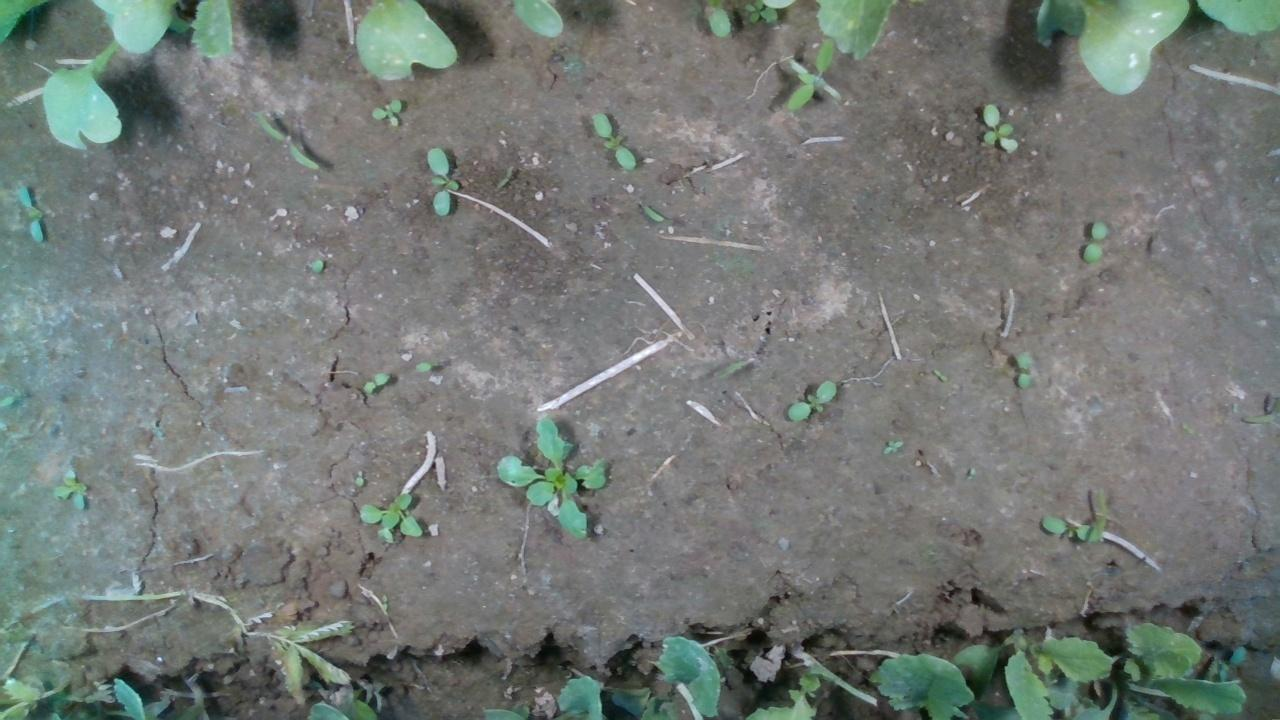weed: (253, 109, 321, 170), (783, 36, 835, 110), (423, 145, 460, 215), (590, 112, 635, 169), (785, 378, 837, 421), (981, 102, 1018, 155), (15, 183, 45, 245), (49, 467, 87, 510), (1079, 219, 1108, 263), (368, 95, 404, 129), (360, 370, 389, 394), (1016, 351, 1029, 389), (880, 436, 903, 455), (930, 368, 948, 383)
